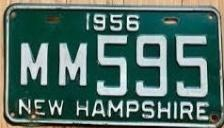5: (172, 33, 210, 98), (94, 33, 131, 98)
9: (133, 34, 170, 99)
M: (17, 40, 52, 88), (55, 41, 89, 90)
